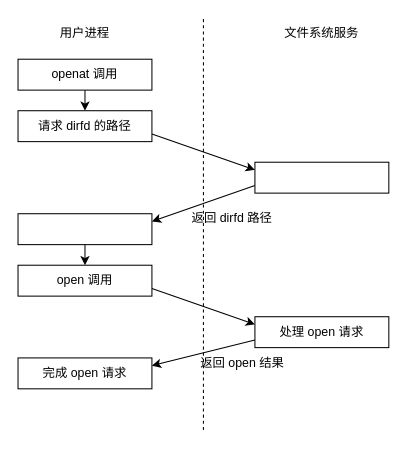
Image size: 407x449. Some labels were removed from this diagram. Each missing label, with the centre of its shape:
"拼接计算绝对路径" goes at [84,229].
"索引 dirfd 路径" goes at [321,177].
